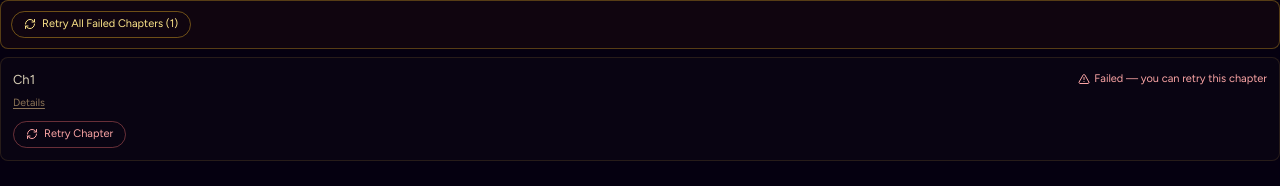
Test: BookFactoryChapterReview — failed-chapter recovery › cancelling the confirmation never calls onRetryFailed
Click the button with test id "bf-retry-failed-c1": [70, 134] box left=13, top=121, right=126, bottom=148
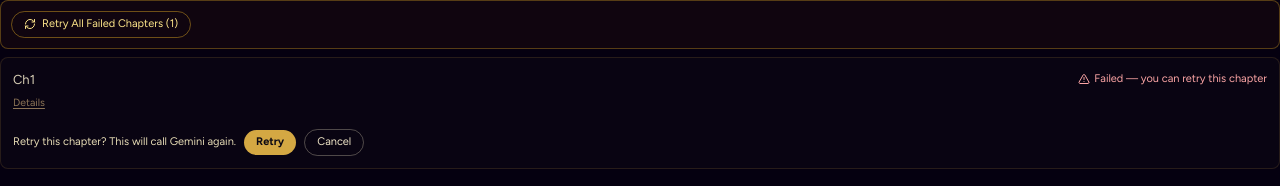
Click the button with test id "bf-retry-failed-cancel-c1": [334, 142] box left=304, top=129, right=364, bottom=156
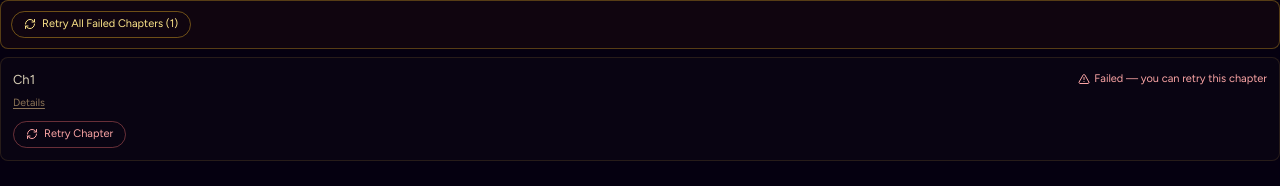
Expected: the element with test id "bf-retry-failed-confirm-c1" is gone
